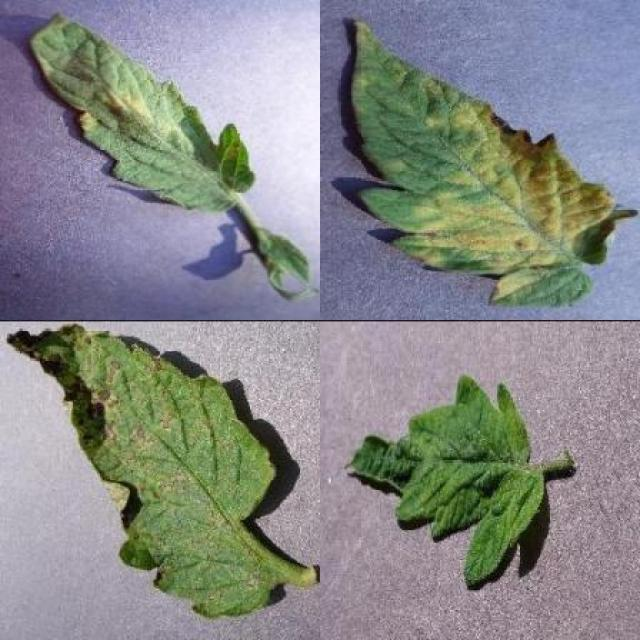Leaf Mold: (348, 17, 638, 310), (31, 12, 258, 212)
Mosaic Virus: (345, 372, 545, 588)
Septoria: (7, 324, 280, 616)
